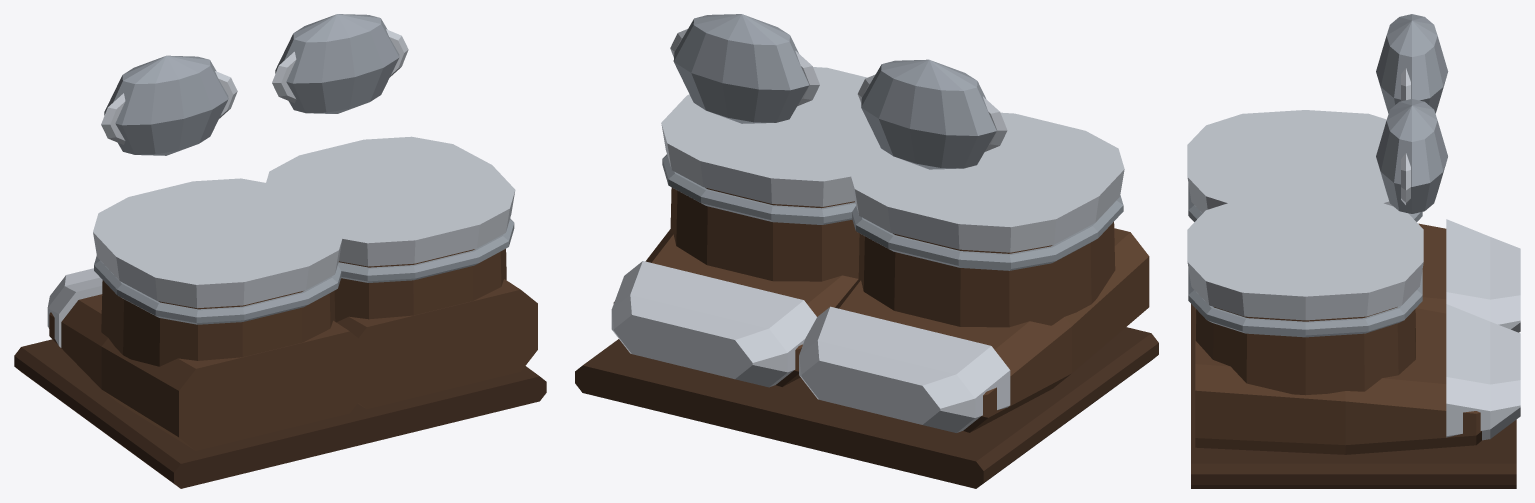
The model's file is look3_shoes_greatsword_normal.fbx.
The picture shows the model from 3 angles, left to right: view 1: azimuth 30°, elevation 25°; view 2: azimuth 150°, elevation 25°; view 3: azimuth 270°, elevation 25°; orthographic projection. The views are drawn at different scales.
Visible parts, largest first — view 1: Greave_L, Greave_R, Boot_L, Boot_R; view 2: Greave_L, Boot_L, Greave_R, Boot_R; view 3: Greave_R, Boot_R, Greave_L, Boot_L.
Boxes of the visible parts, left/top/right/bottom form: Greave_L: left=93, top=55, right=342, bottom=366; Greave_R: left=264, top=14, right=515, bottom=322; Boot_L: left=14, top=268, right=375, bottom=488; Boot_R: left=336, top=279, right=546, bottom=446; Greave_L: left=849, top=59, right=1124, bottom=327; Boot_L: left=764, top=228, right=1158, bottom=488; Greave_R: left=661, top=14, right=896, bottom=281; Boot_R: left=575, top=229, right=858, bottom=439; Greave_R: left=1187, top=99, right=1447, bottom=395; Boot_R: left=1191, top=304, right=1520, bottom=488; Greave_L: left=1187, top=14, right=1448, bottom=221; Boot_L: left=1191, top=219, right=1520, bottom=378.
Bounding box in the file's own units: 220 × 185 × 166.
